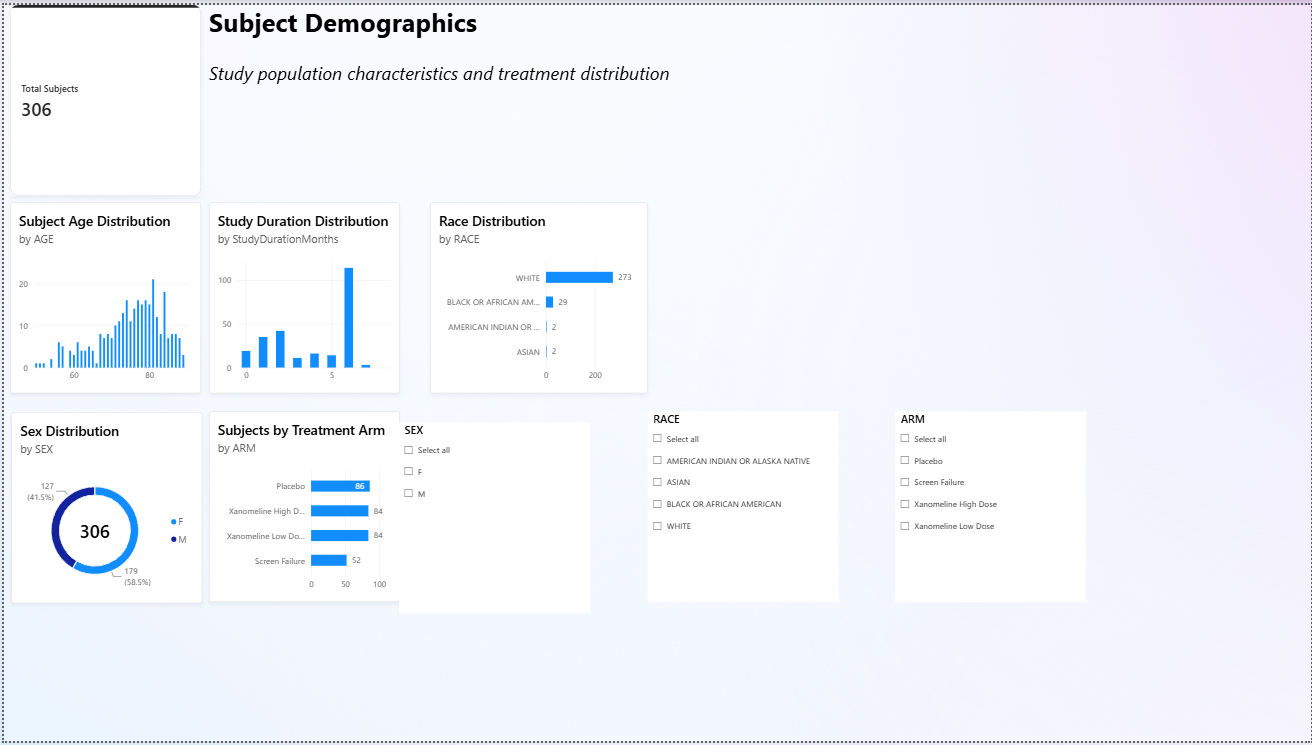

This screenshot's page, from the dashboard's own definition file:
{"tool":"powerbi","page":{"name":"Subject Demographics","canvas":[1920,1080],"ordinal":1},"visuals":[{"type":"cardVisual","fields":{"Data":["Count(DM.USUBJID)"]},"box":[10,0,280,280],"z":0},{"type":"columnChart","fields":{"Category":["DM.AGE"],"Y":["Count(DM.USUBJID)"]},"box":[10,290,280,280],"z":1},{"type":"donutChart","fields":{"Category":["DM.SEX"],"Y":["Count(DM.USUBJID)"]},"box":[10.9,597.2,280,280],"z":2},{"type":"clusteredBarChart","fields":{"Category":["DM.RACE"],"Y":["Count(DM.USUBJID)"]},"box":[625.7,290.2,319,279.9],"z":3},{"type":"clusteredBarChart","fields":{"Category":["DM.ARM"],"Y":["Count(DM.USUBJID)"]},"box":[300.5,596.9,280,280],"z":4},{"type":"clusteredColumnChart","fields":{"Category":["DM.StudyDurationMonths"],"Y":["Count(DM.USUBJID)"]},"box":[301,290,280,280],"z":5},{"type":"slicer","fields":{"Values":["DM.SEX"]},"box":[580.4,613.4,280,280],"z":6},{"type":"slicer","fields":{"Values":["DM.RACE"]},"box":[944.8,596.9,280,280],"z":7},{"type":"slicer","fields":{"Values":["DM.ARM"]},"box":[1307,596.9,280,280],"z":8},{"type":"textbox","box":[300.5,0,724.5,80.3],"z":9},{"type":"textbox","box":[300.5,80.3,981.8,59.7],"z":10}]}

Visuals, with their boxes in screenshot pixels (x1, y1, x2, y2), scaled from the page's 1920x1080 canvas onto the 1312x745 screenshot:
cardVisual - Count(DM.USUBJID): <bbox>7, 0, 198, 193</bbox>
columnChart - DM.AGE x Count(DM.USUBJID): <bbox>7, 200, 198, 393</bbox>
donutChart - DM.SEX x Count(DM.USUBJID): <bbox>7, 412, 199, 605</bbox>
clusteredBarChart - DM.RACE x Count(DM.USUBJID): <bbox>428, 200, 646, 393</bbox>
clusteredBarChart - DM.ARM x Count(DM.USUBJID): <bbox>205, 412, 397, 605</bbox>
clusteredColumnChart - DM.StudyDurationMonths x Count(DM.USUBJID): <bbox>206, 200, 397, 393</bbox>
slicer - DM.SEX: <bbox>397, 423, 588, 616</bbox>
slicer - DM.RACE: <bbox>646, 412, 837, 605</bbox>
slicer - DM.ARM: <bbox>893, 412, 1084, 605</bbox>
textbox: <bbox>205, 0, 700, 55</bbox>
textbox: <bbox>205, 55, 876, 97</bbox>
